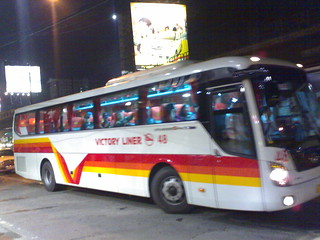bus: (11, 56, 320, 214)
